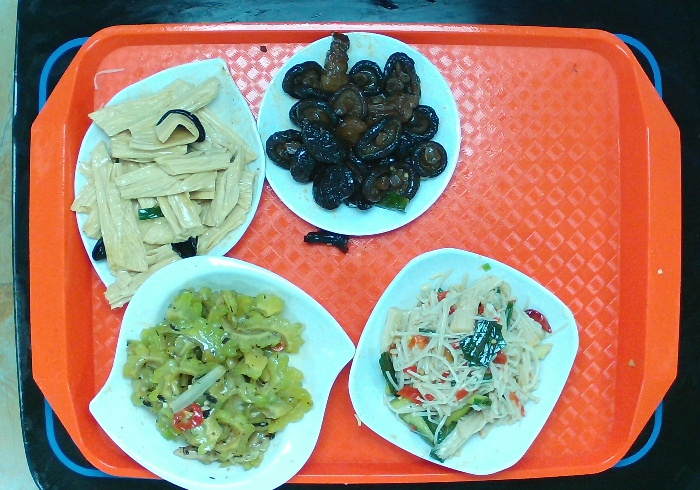RJxy-Da_Du_Pan: (68, 52, 268, 304)
RJxy-Shuang_Jiao_Pan: (84, 255, 363, 490)
RJxy-Si_Fang_Wan: (344, 236, 579, 479)
RJxy-Xiao_Yuan_Die: (256, 29, 462, 242)
